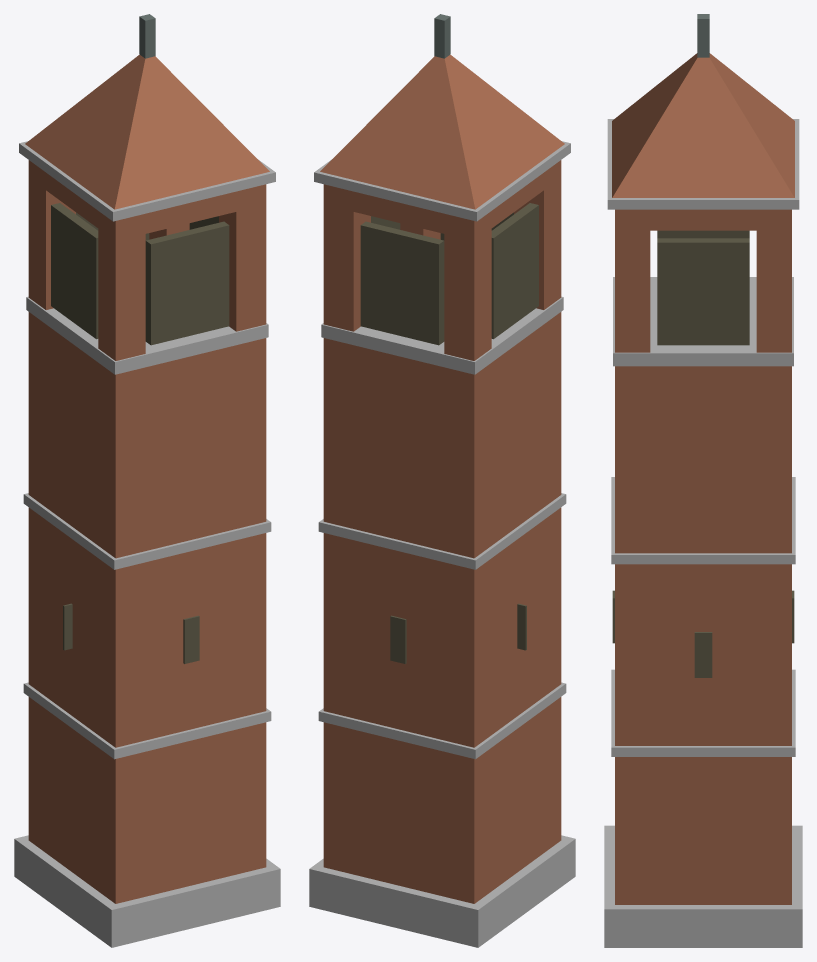
The model's file is SM_Campanario_v0_Ladrillo_LOD1.fbx.
The picture shows the model from 3 angles, left to right: view 1: azimuth 30°, elevation 25°; view 2: azimuth 150°, elevation 25°; view 3: azimuth 270°, elevation 25°; orthographic projection.
Visible parts, largest first — view 1: SM_pueblo_valenciano_v20_LOD1; view 2: SM_pueblo_valenciano_v20_LOD1; view 3: SM_pueblo_valenciano_v20_LOD1.
Boxes of the visible parts, x1=… form: SM_pueblo_valenciano_v20_LOD1: x1=14, y1=14, x2=280, y2=947; SM_pueblo_valenciano_v20_LOD1: x1=309, y1=14, x2=575, y2=947; SM_pueblo_valenciano_v20_LOD1: x1=604, y1=14, x2=802, y2=947.
Size of the model in its own units: 5.6 by 27.7 by 5.6.
